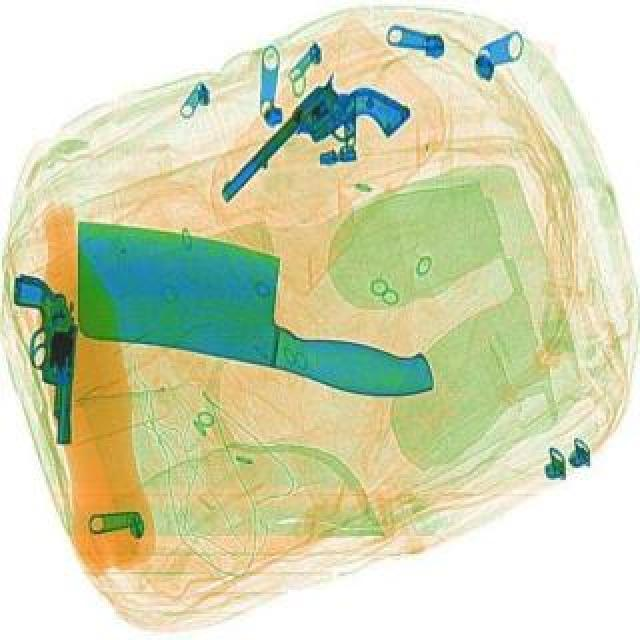gun: (212, 52, 416, 246), (12, 270, 80, 450)
knife: (56, 212, 452, 402)
